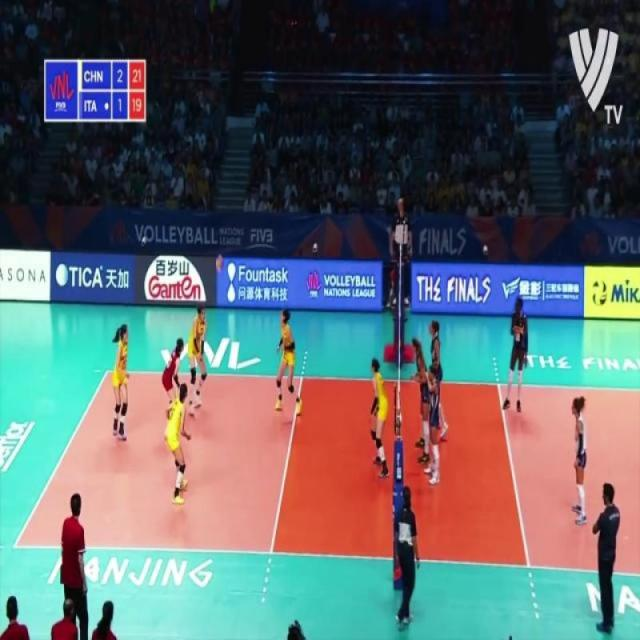volleyball: (592, 278, 607, 308), (217, 254, 224, 271)
